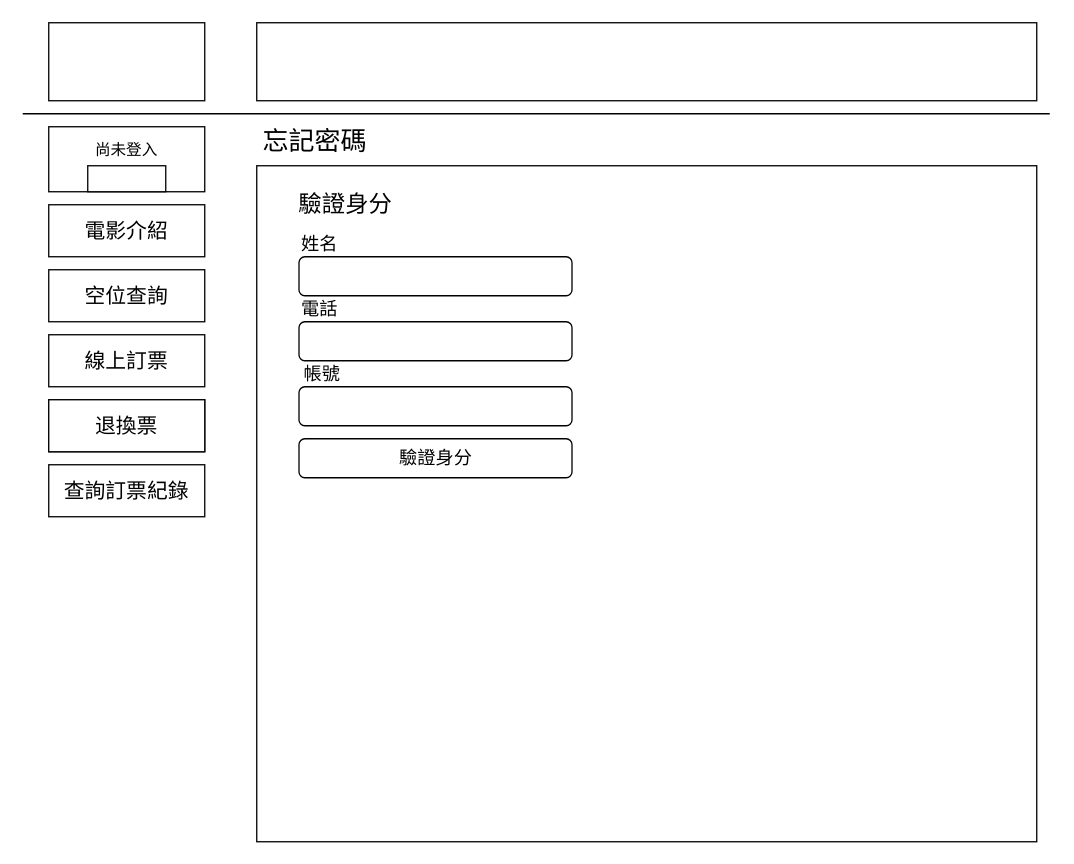
Image size: 1074x864. Some labels were removed from this diagram. Each missing label, with the centre of its shape:
"影城名稱" goes at (646,61).
"登入/註冊" goes at (126,178).
"電影院 訂票系統" goes at (126,61).
